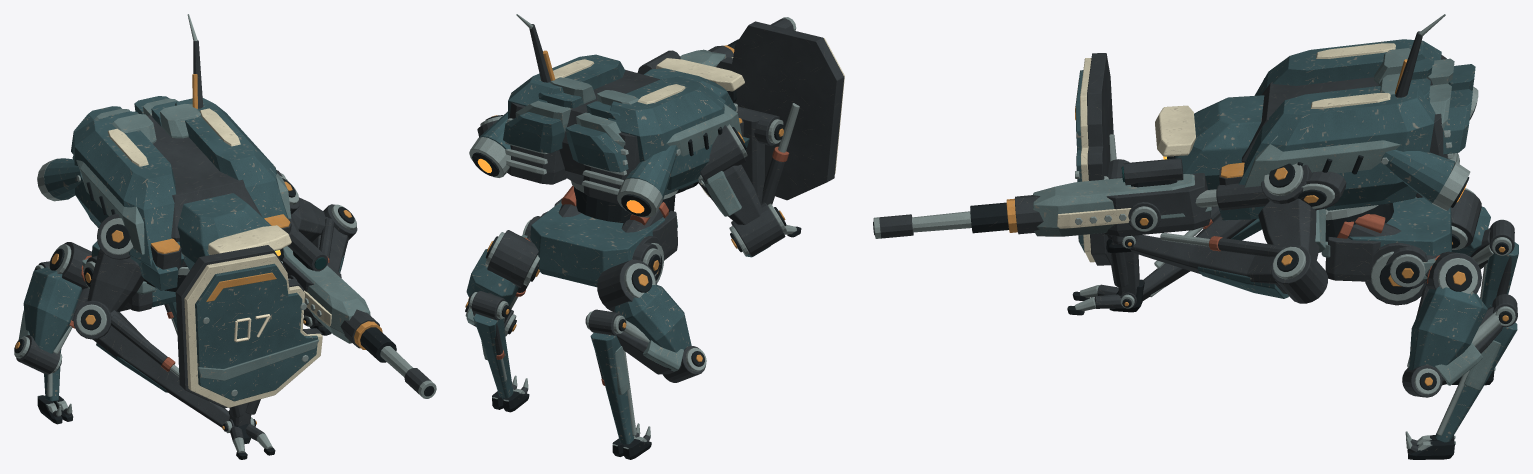
File: nightjar.glb
The picture shows the model from 3 angles, left to right: view 1: azimuth 30°, elevation 25°; view 2: azimuth 150°, elevation 25°; view 3: azimuth 270°, elevation 25°; orthographic projection. The views are drawn at different scales.
Visible parts, largest first — view 1: Turret shell, Buckler shell, Slide shell, ElbowR shell, Optics shell, HipR shell, ShoulderR shell, ElbowL shell, VernierR shell, KneeR shell, ShoulderL shell, WristR shell (+5 smaller); view 2: Turret shell, Buckler shell, Keel shell, HipR shell, ShoulderR shell, HockR shell, HipL shell, HockL shell, VernierR shell, KneeR shell, Optics shell, ElbowR shell (+7 smaller); view 3: Turret shell, Slide shell, ElbowL shell, Keel shell, Buckler shell, Optics shell, HipL shell, ShoulderL shell, Breech shell, VernierL shell, HockL shell, GunLink shell (+8 smaller).
Part boxes in pixels (<box>): Turret shell: <box>71,96,291,291</box>; Buckler shell: <box>175,245,322,426</box>; Slide shell: <box>283,231,436,398</box>; ElbowR shell: <box>73,300,229,427</box>; Optics shell: <box>177,193,291,269</box>; HipR shell: <box>23,242,91,354</box>; ShoulderR shell: <box>87,214,144,312</box>; ElbowL shell: <box>312,204,357,272</box>; VernierR shell: <box>37,158,82,201</box>; KneeR shell: <box>14,310,62,374</box>; ShoulderL shell: <box>280,176,325,242</box>; WristR shell: <box>222,410,275,459</box>; Turret shell: <box>503,54,749,222</box>; Buckler shell: <box>716,21,844,204</box>; Keel shell: <box>530,185,677,287</box>; HipR shell: <box>597,259,691,352</box>; ShoulderR shell: <box>698,124,762,224</box>; HockR shell: <box>585,309,636,444</box>; HipL shell: <box>466,230,539,309</box>; HockL shell: <box>468,291,513,398</box>; VernierR shell: <box>617,145,677,217</box>; KneeR shell: <box>617,320,706,382</box>; Optics shell: <box>644,58,744,112</box>; ElbowR shell: <box>729,202,786,257</box>; Turret shell: <box>1218,39,1475,241</box>; Slide shell: <box>873,158,1211,238</box>; ElbowL shell: <box>1129,233,1327,303</box>; Keel shell: <box>1321,197,1451,305</box>; Buckler shell: <box>1075,53,1139,295</box>; Optics shell: <box>1155,95,1264,189</box>; HipL shell: <box>1407,251,1487,370</box>; ShoulderL shell: <box>1258,163,1328,260</box>; Breech shell: <box>1104,173,1210,239</box>; VernierL shell: <box>1381,149,1470,210</box>; HockL shell: <box>1435,294,1517,442</box>; GunLink shell: <box>1195,171,1346,210</box>.
Size of the model in its own units: 3.56 by 4.53 by 6.11.
Materials: 11 (8 with a texture image).
